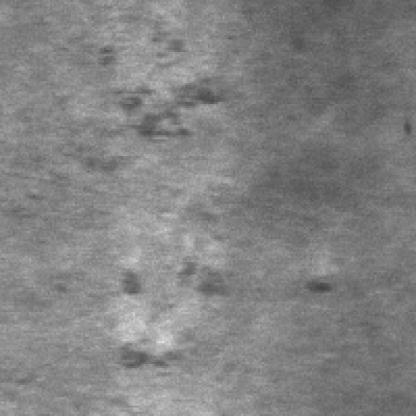rolled-in_scale: (110, 252, 248, 376), (102, 25, 237, 139)
